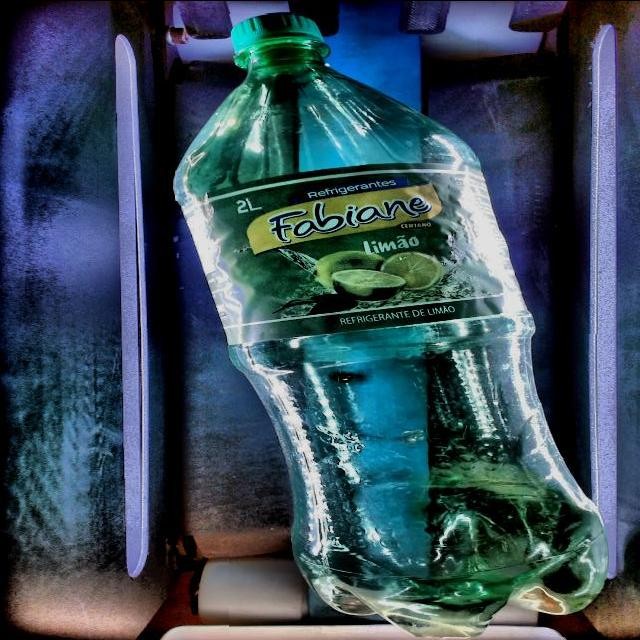bottom: (230, 333, 606, 635)
label: (202, 163, 500, 342)
neck: (175, 13, 477, 199)
